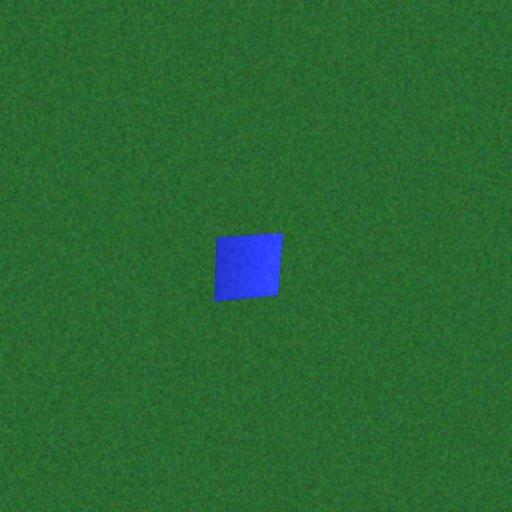BLUE_SQUARE: (214, 233, 284, 302)
